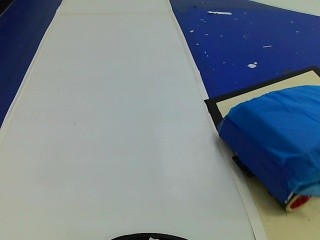car: (216, 77, 320, 218)
